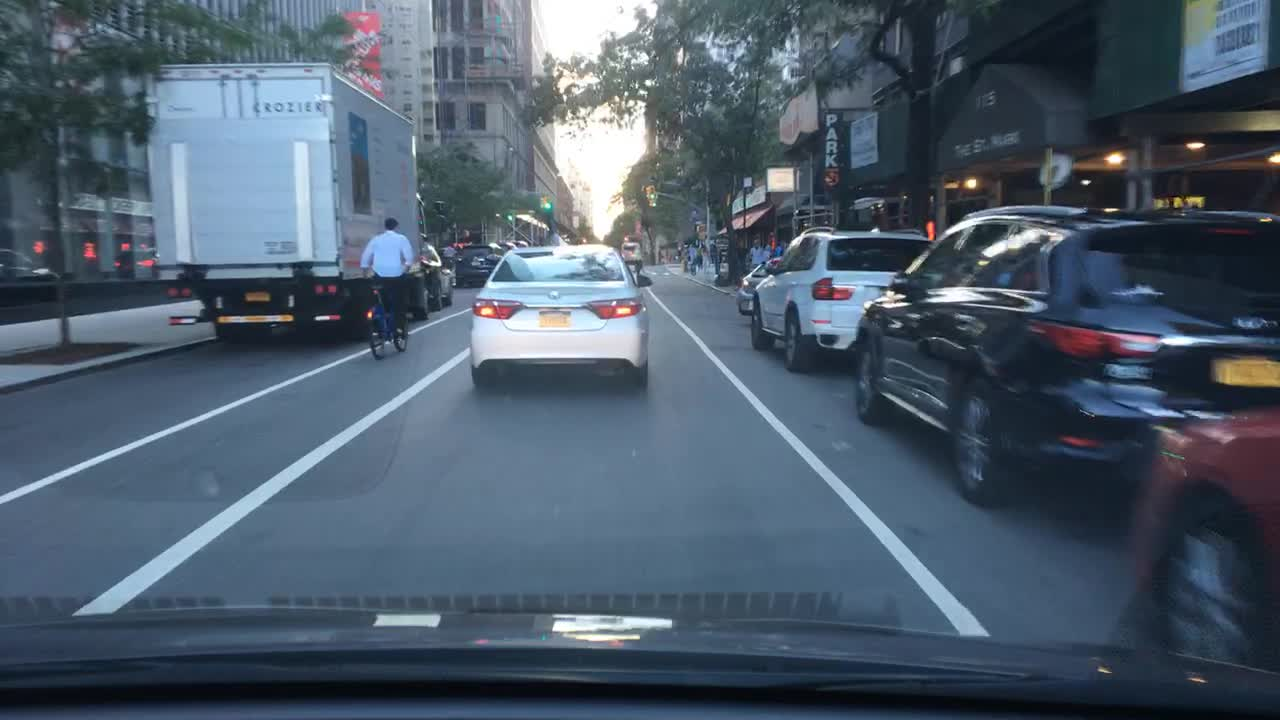bike: (360, 282, 411, 361)
bus: (622, 241, 639, 264)
car: (852, 203, 1279, 508), (1131, 410, 1279, 668), (469, 237, 653, 390), (749, 225, 936, 372), (450, 241, 507, 288), (419, 239, 457, 307), (735, 258, 778, 318), (0, 245, 62, 285), (113, 245, 161, 271), (434, 246, 462, 284), (485, 240, 506, 255), (512, 239, 531, 249), (497, 240, 517, 249)
person: (747, 237, 767, 267), (686, 242, 700, 276), (700, 243, 713, 275), (679, 248, 692, 271), (696, 242, 703, 270)
rider: (357, 216, 416, 339)
traffic light: (945, 175, 982, 190), (923, 215, 939, 237), (644, 187, 657, 206), (503, 211, 515, 224), (544, 199, 554, 214), (697, 224, 704, 242), (538, 197, 546, 210), (650, 186, 658, 198)
traffic sign: (1041, 152, 1072, 185), (824, 166, 840, 185), (741, 174, 752, 187)
truck: (143, 60, 429, 342)
